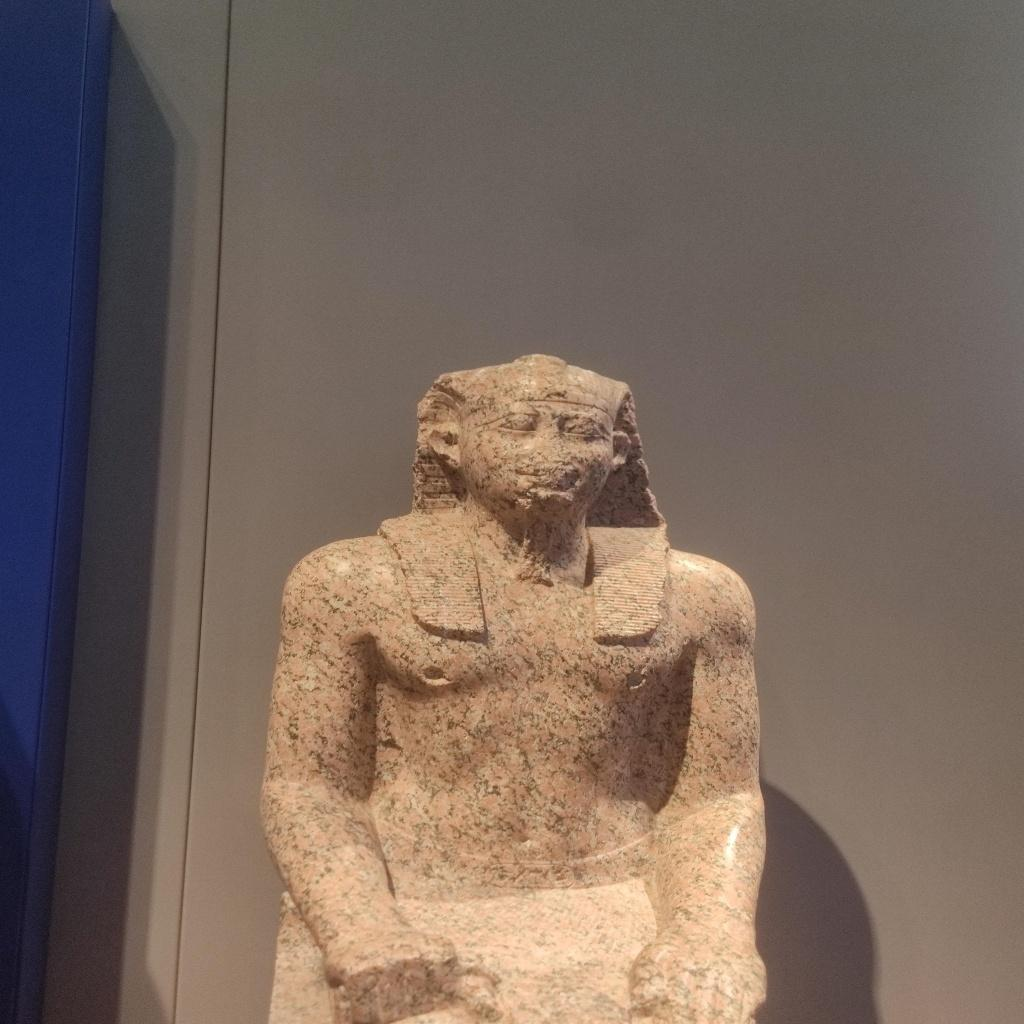Statue of Amenmhat I: (255, 351, 773, 1024)
